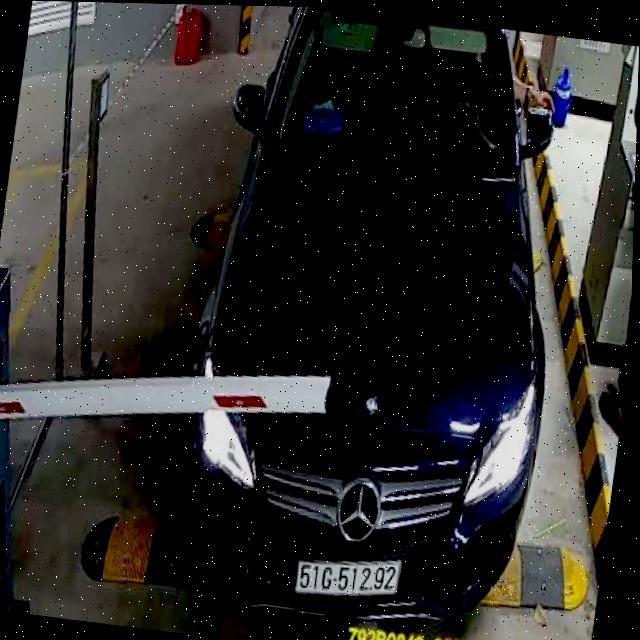car: (165, 4, 592, 635)
plate: (292, 551, 403, 604)
